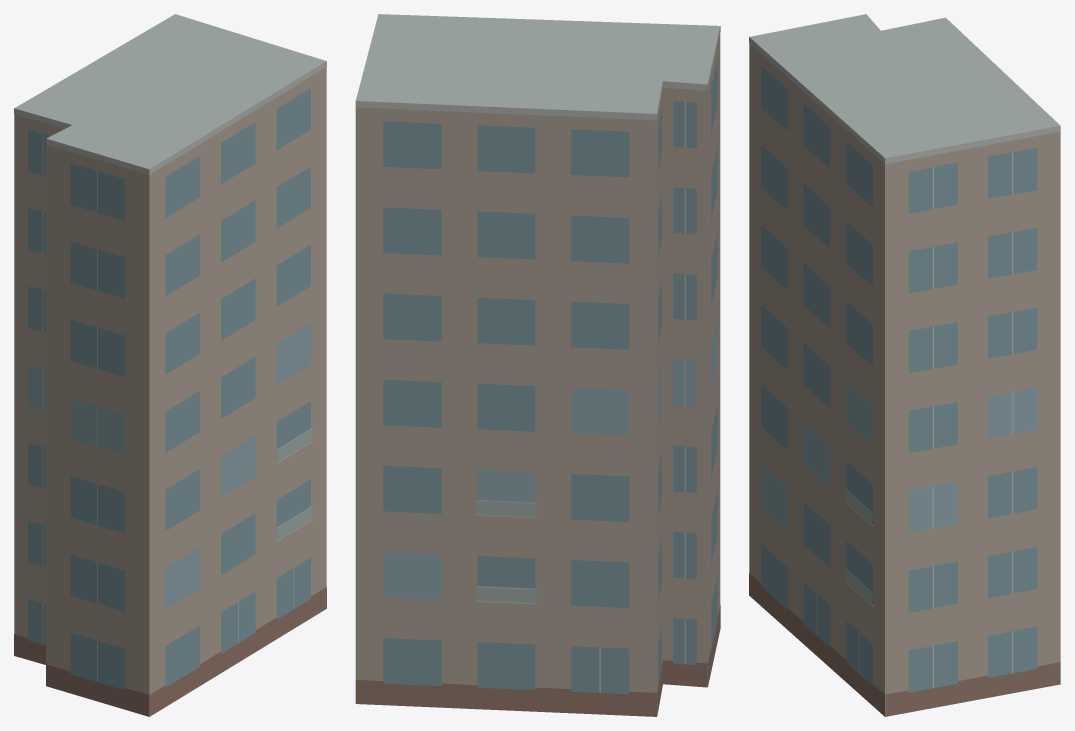
File: survey-upis-33040727.glb
3 renders of one model, left to right at view 1: azimuth 30°, elevation 25°; view 2: azimuth 150°, elevation 25°; view 3: azimuth 270°, elevation 25°, orthographic. The views are drawn at different scales.
Visible parts, largest first — view 1: survey-upis-33040727.tmp; view 2: survey-upis-33040727.tmp; view 3: survey-upis-33040727.tmp.
Boxes of the visible parts, left/top/right/bottom form: survey-upis-33040727.tmp: left=14, top=14, right=326, bottom=716; survey-upis-33040727.tmp: left=355, top=14, right=720, bottom=716; survey-upis-33040727.tmp: left=749, top=14, right=1060, bottom=716.
Size of the model in its own units: 12.81 by 23.1 by 11.68.
